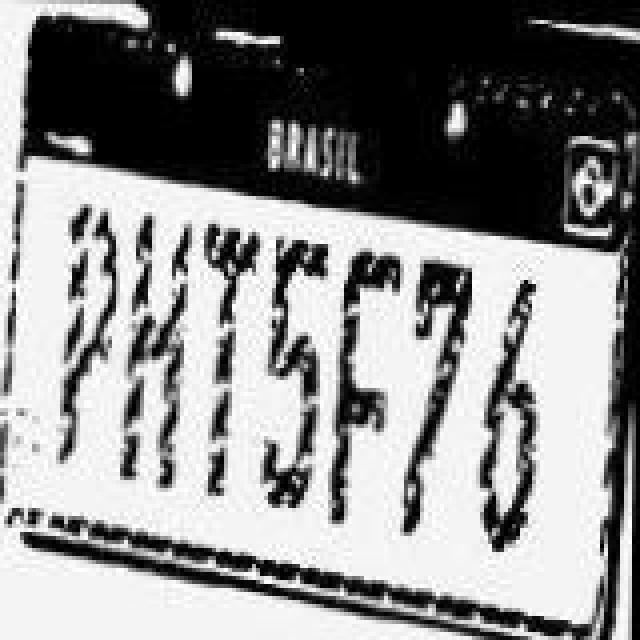5: (256, 232, 328, 504)
6: (476, 278, 548, 550)
7: (410, 252, 478, 536)
F: (326, 248, 402, 528)
H: (118, 214, 210, 510)
P: (54, 200, 130, 492)
T: (192, 218, 264, 490)
